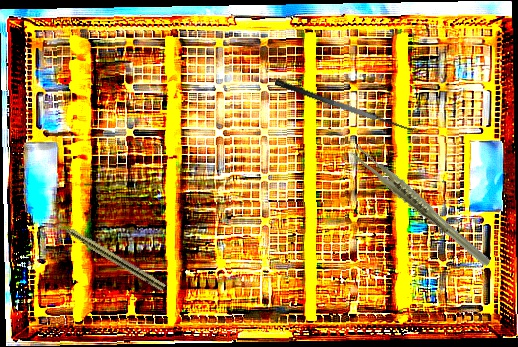Handpiece: (46, 214, 168, 292)
Spatula Surgical: (274, 67, 418, 138)
Tissue Forceps: (349, 125, 493, 289)
